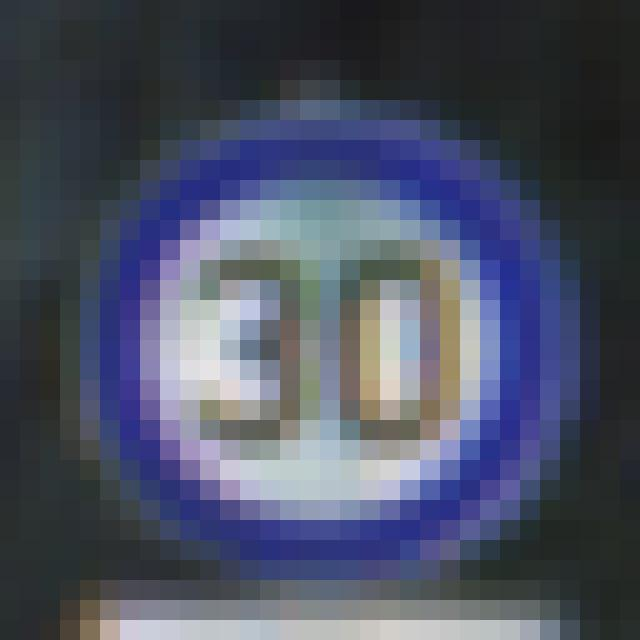SPEED LIMIT 30: (105, 125, 568, 555)
